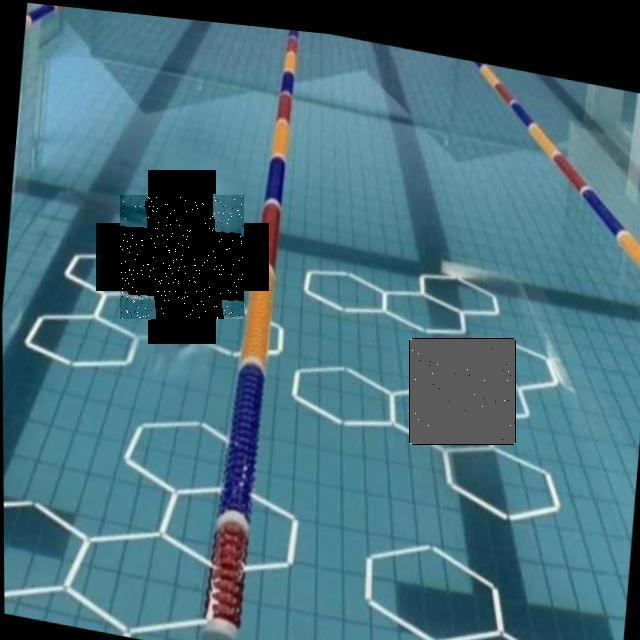swimming: (120, 195, 244, 319), (410, 339, 515, 444)
